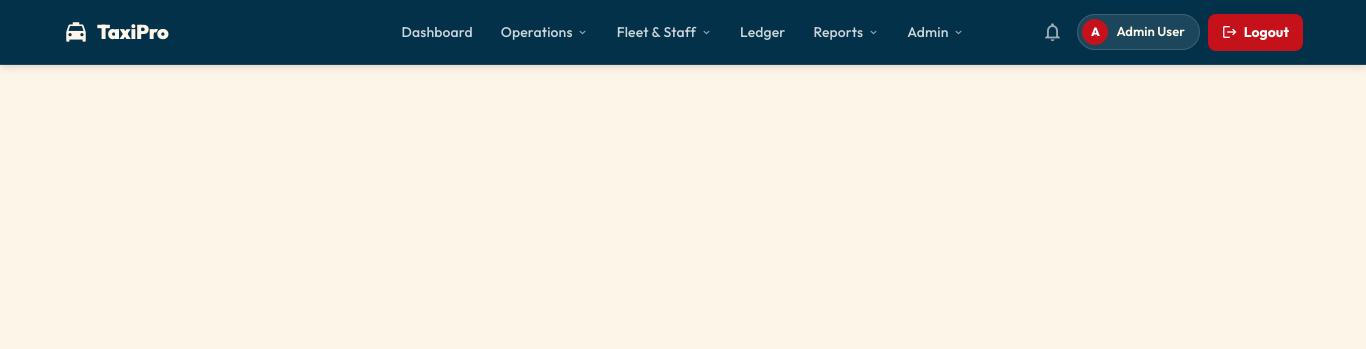
Test: opens Fleet & Staff dropdown and shows sub-links
Click the button "Fleet & Staff": (664, 32) left=605, top=14, right=724, bottom=50
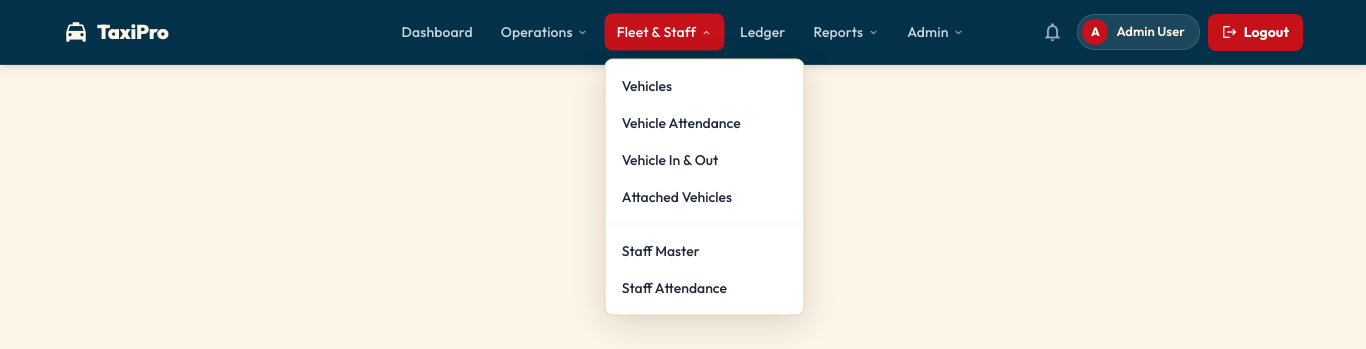
expect the link "Vehicle In & Out" is shown: met, box left=622, top=150, right=718, bottom=168
expect the link "Attached Vehicles" is shown: met, box left=622, top=188, right=732, bottom=206
